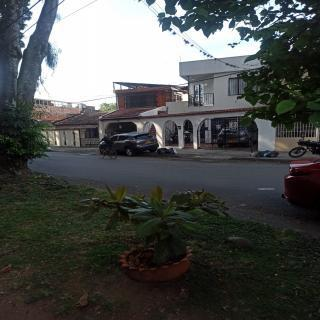Garbage: (267, 150, 280, 157), (157, 147, 167, 154), (255, 150, 265, 157), (166, 148, 175, 155), (263, 153, 269, 157)
